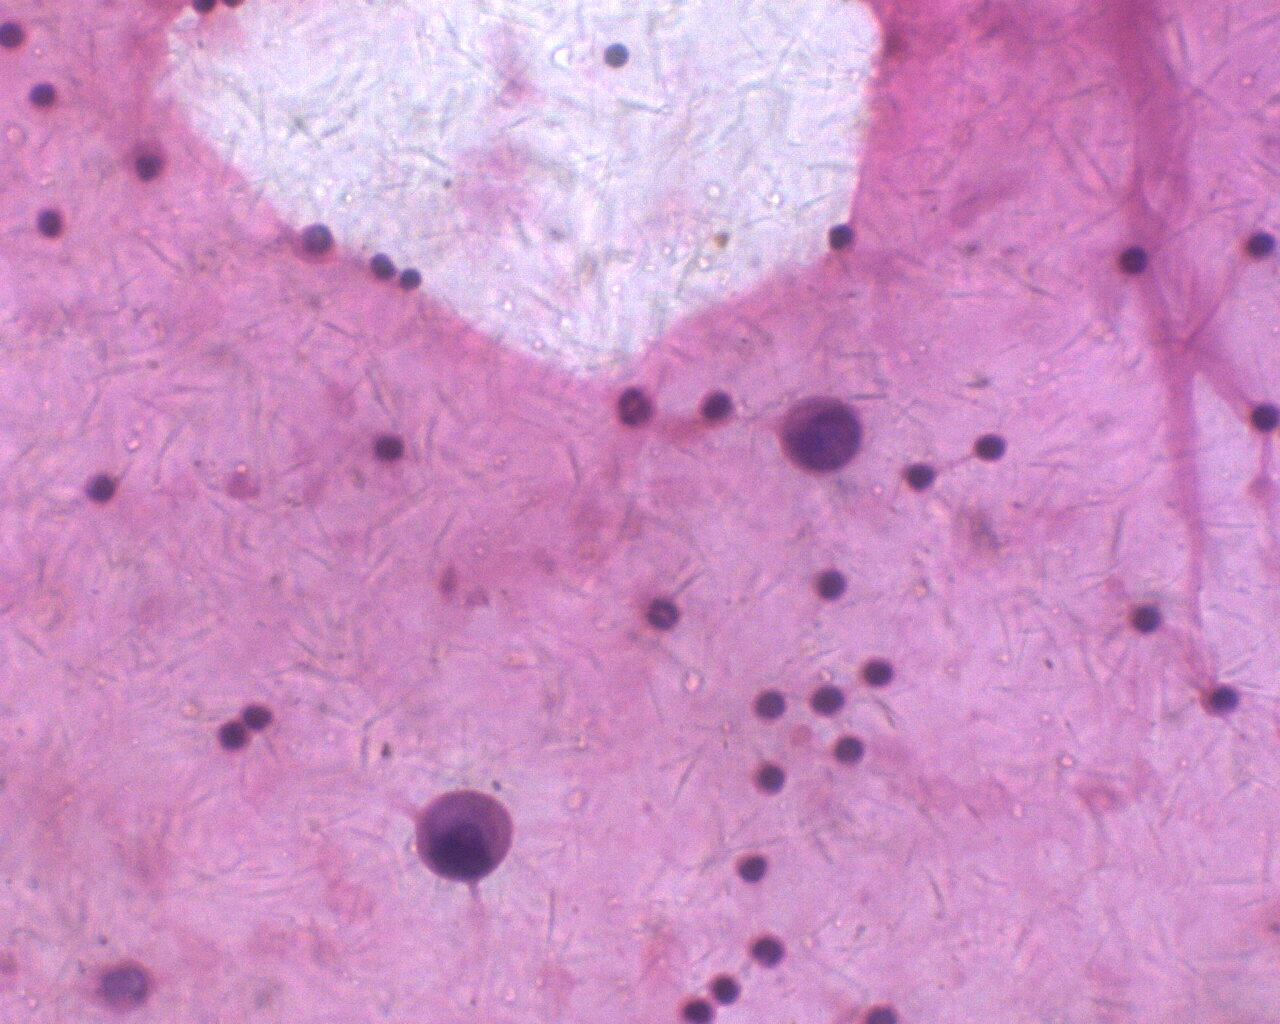ab: (409, 785, 516, 886), (773, 388, 870, 480)
lymph: (808, 563, 853, 608), (697, 387, 739, 429), (972, 426, 1013, 469), (30, 200, 72, 240), (1111, 240, 1154, 280), (1123, 600, 1165, 639), (735, 844, 772, 888), (750, 761, 789, 801), (861, 652, 899, 694), (750, 685, 787, 723), (373, 427, 409, 464)
neutro: (638, 594, 686, 637)
